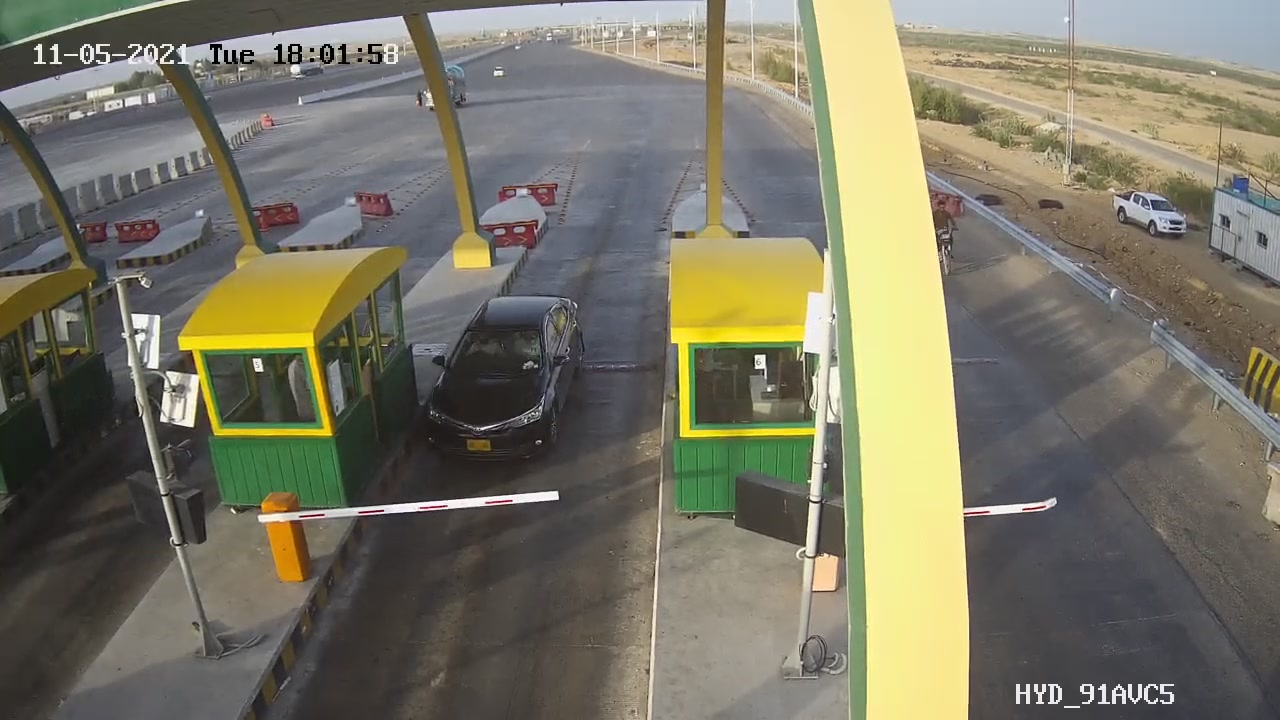F1: (413, 281, 596, 478)
